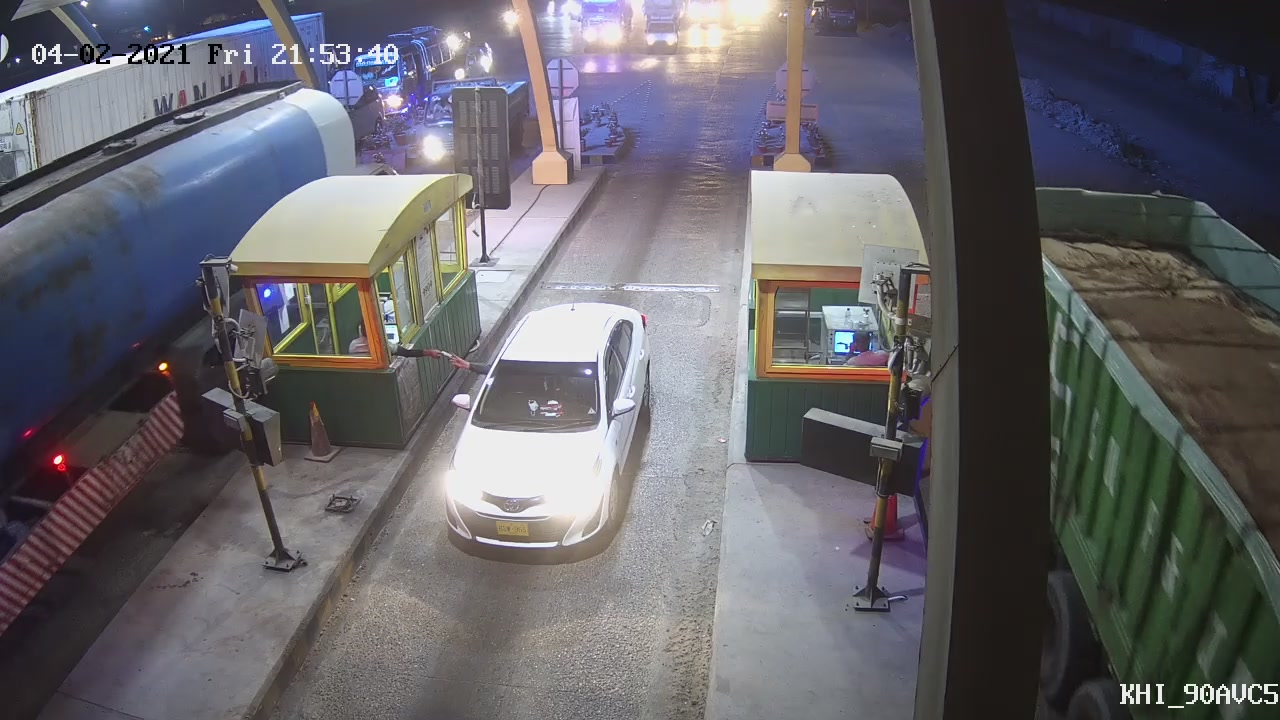F1: (436, 294, 657, 559)
